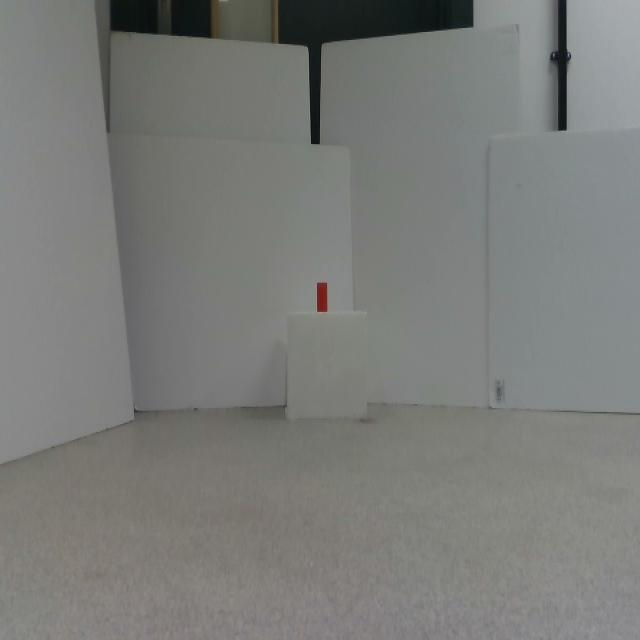red_cylinder: (317, 283, 327, 311)
